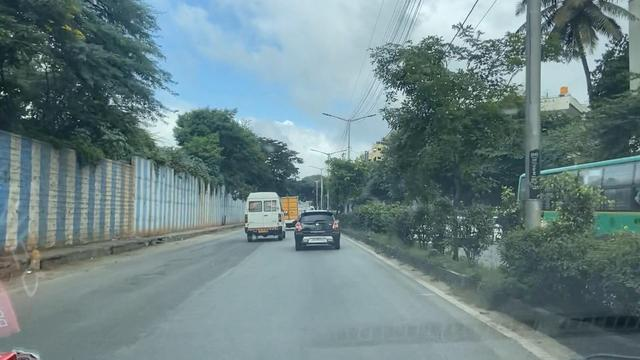HMV: (246, 194, 284, 238)
LMV: (291, 209, 331, 242)
